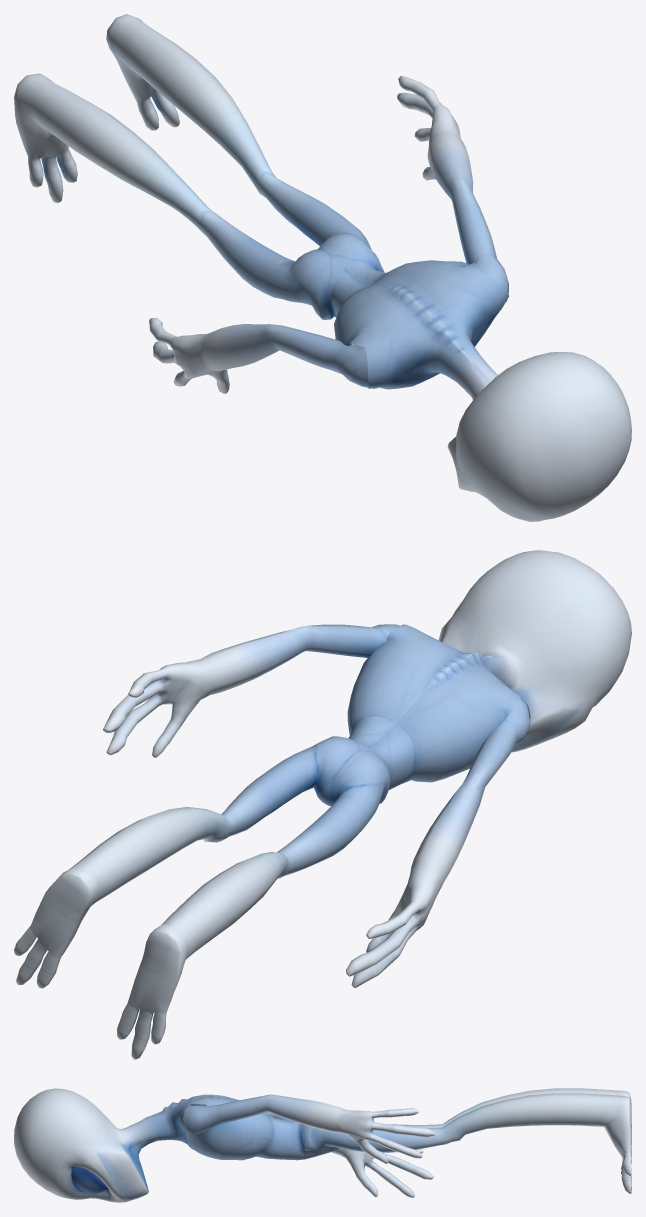
3 renders of one model, top to bottom at view 1: azimuth 30°, elevation 25°; view 2: azimuth 150°, elevation 25°; view 3: azimuth 270°, elevation 25°, orthographic. The views are drawn at different scales.
Visible parts, largest first — view 1: head, torso, rightLeg, leftLeg, rightArm, leftArm; view 2: torso, head, leftLeg, rightLeg, leftArm, rightArm; view 3: head, leftLeg, torso, leftArm, rightArm, rightLeg, leftEye.
Part boxes in pixels (x1,y1,x2,y2): head: [447, 352, 631, 521]; torso: [293, 234, 508, 399]; rightLeg: [14, 73, 311, 305]; leftLeg: [106, 14, 371, 249]; rightArm: [149, 317, 379, 394]; leftArm: [397, 76, 508, 301]; torso: [314, 624, 530, 806]; head: [438, 550, 631, 752]; leftLeg: [14, 742, 319, 988]; rightLeg: [117, 781, 384, 1059]; leftArm: [103, 624, 402, 757]; rightArm: [346, 699, 530, 987]; head: [14, 1088, 148, 1202]; leftLeg: [315, 1093, 631, 1193]; torso: [119, 1094, 338, 1160]; leftArm: [183, 1094, 435, 1163]; rightArm: [185, 1104, 433, 1197]; rightLeg: [391, 1088, 631, 1183]; leftEye: [71, 1167, 107, 1193].
Size of the model in its own units: 0.5515 by 0.4564 by 1.62.
Materials: 2 (2 with a texture image).
